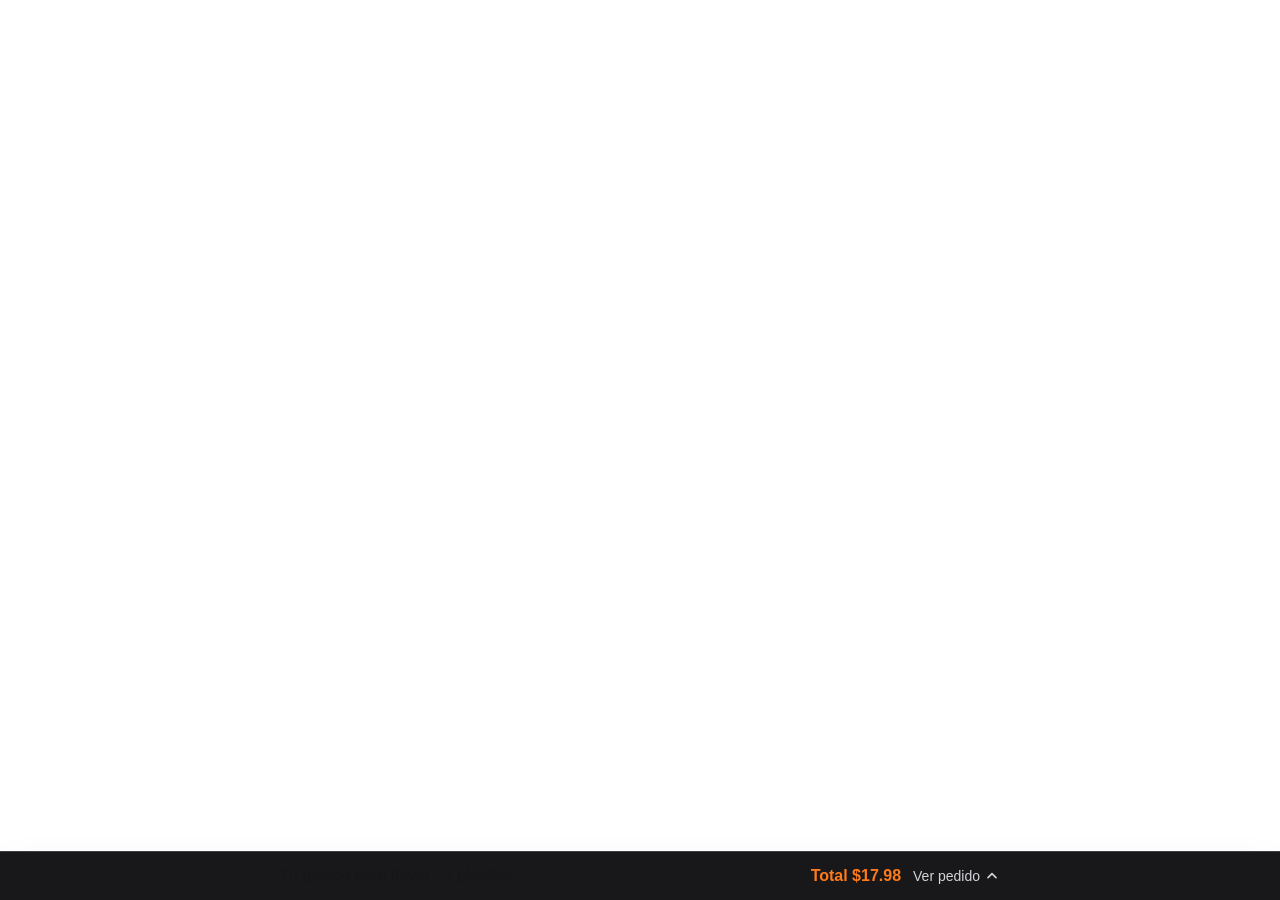
Test: CarritoLlevar › no confirma con el nombre «Ana»
Click the button "Tu pedido para llevar · 2 platillos Total $17.98 Ver pedido" at {"x": 362, "y": 876}, box [280,864,1000,888]
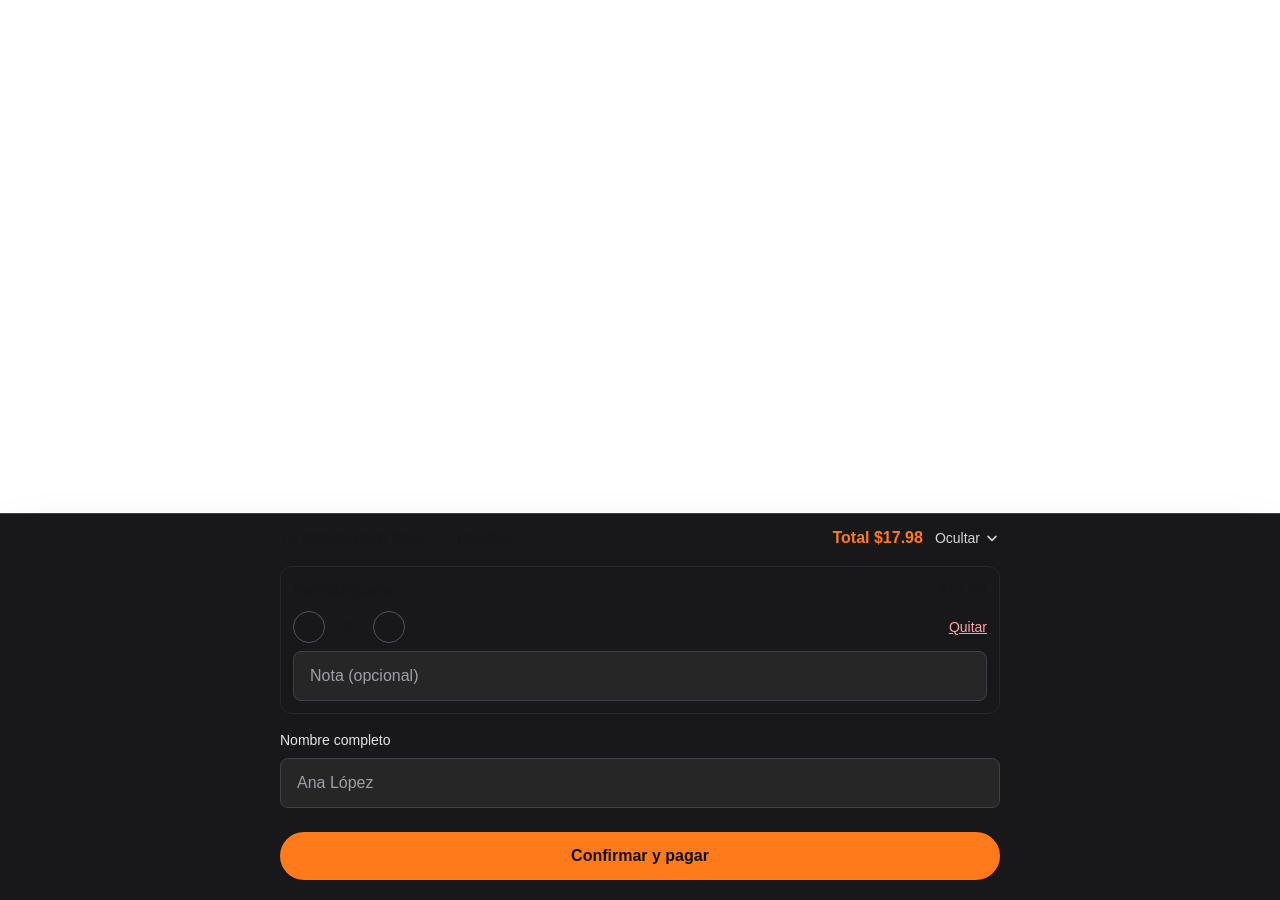
Type "Ana" into the field labelled "Nombre completo" at {"x": 640, "y": 783}, box [280,758,1000,808]
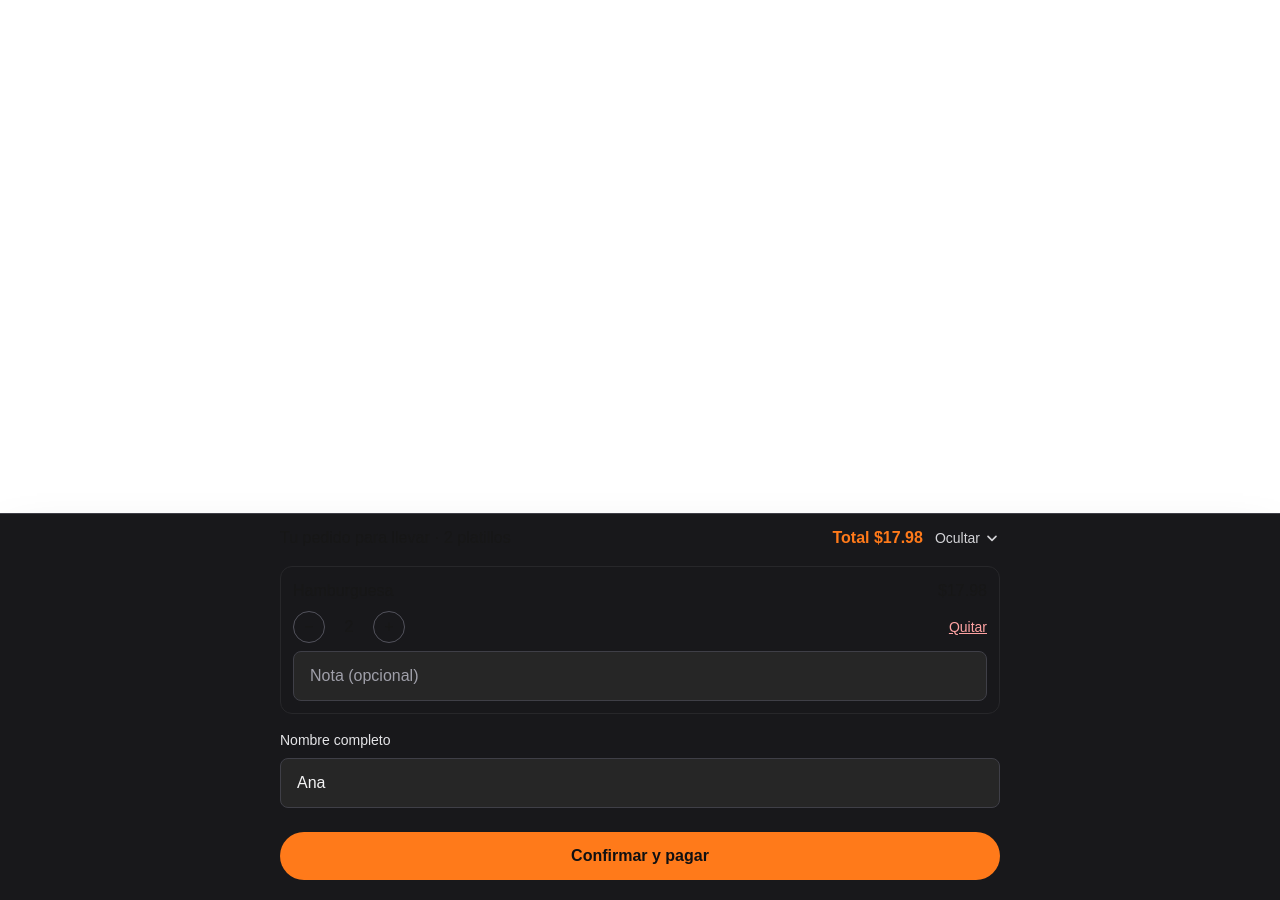
Click the button "Confirmar y pagar" at {"x": 640, "y": 856}, box [280,832,1000,880]
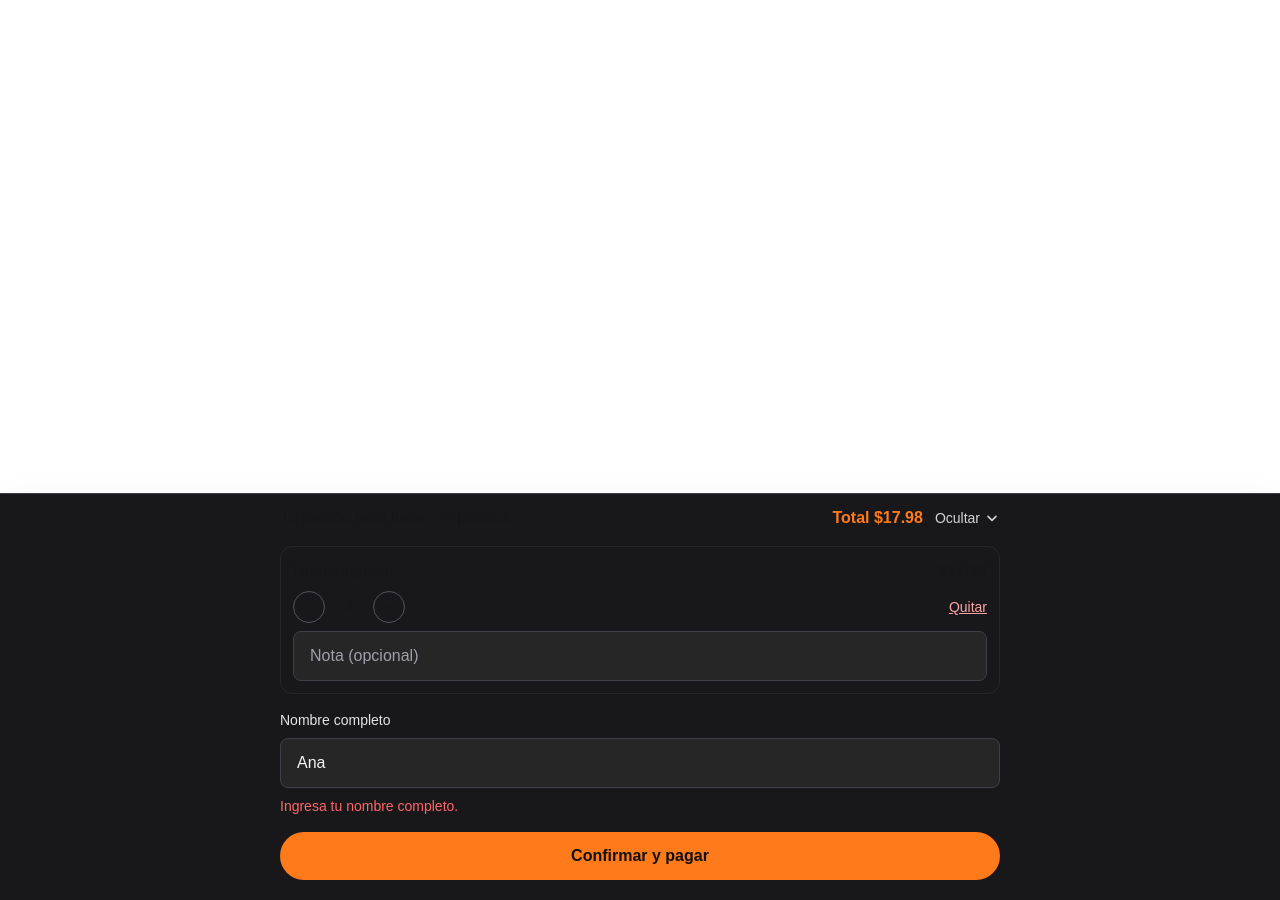
Expected: the text "Ingresa tu nombre completo." is shown, [280,798,458,814]
